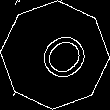O_SW: (22, 22, 88, 88)
